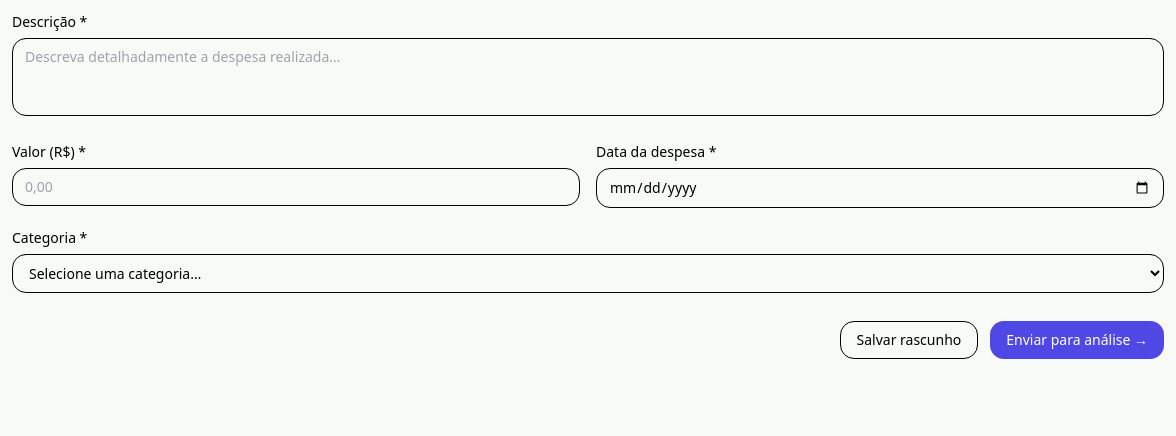
it: ReimbursementForm › shows validation error when description is too short
Click the button "Salvar rascunho" at (909, 340), box [840,321,978,359]
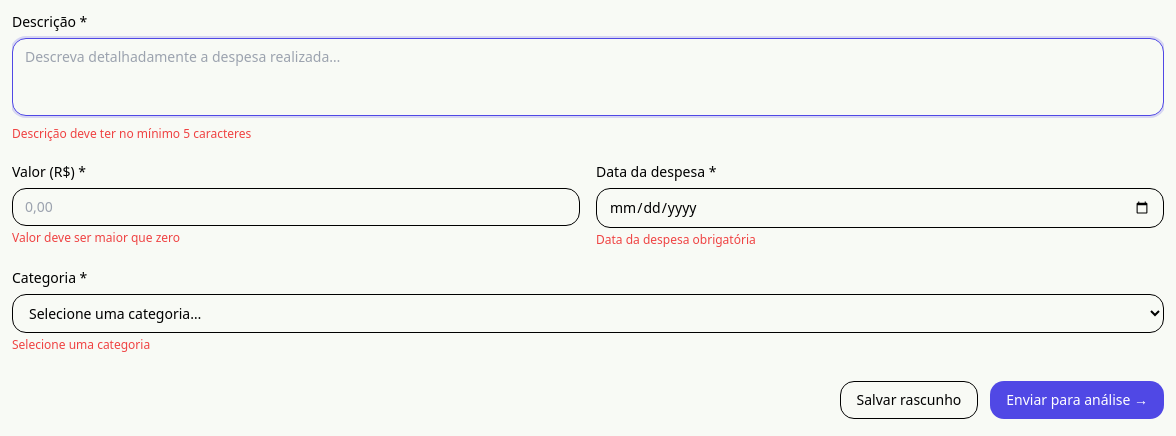
Result: the text "Descrição deve ter no mínimo 5 caracteres" is shown at [12,125,251,142]
